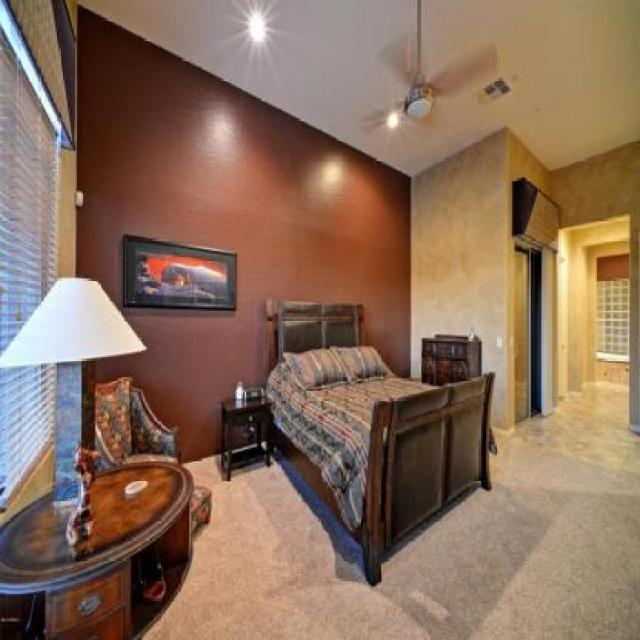Floor: (140, 382, 639, 639)
